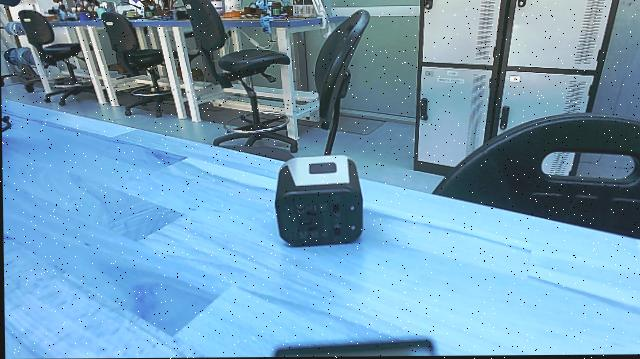adapter: (267, 151, 365, 255)
